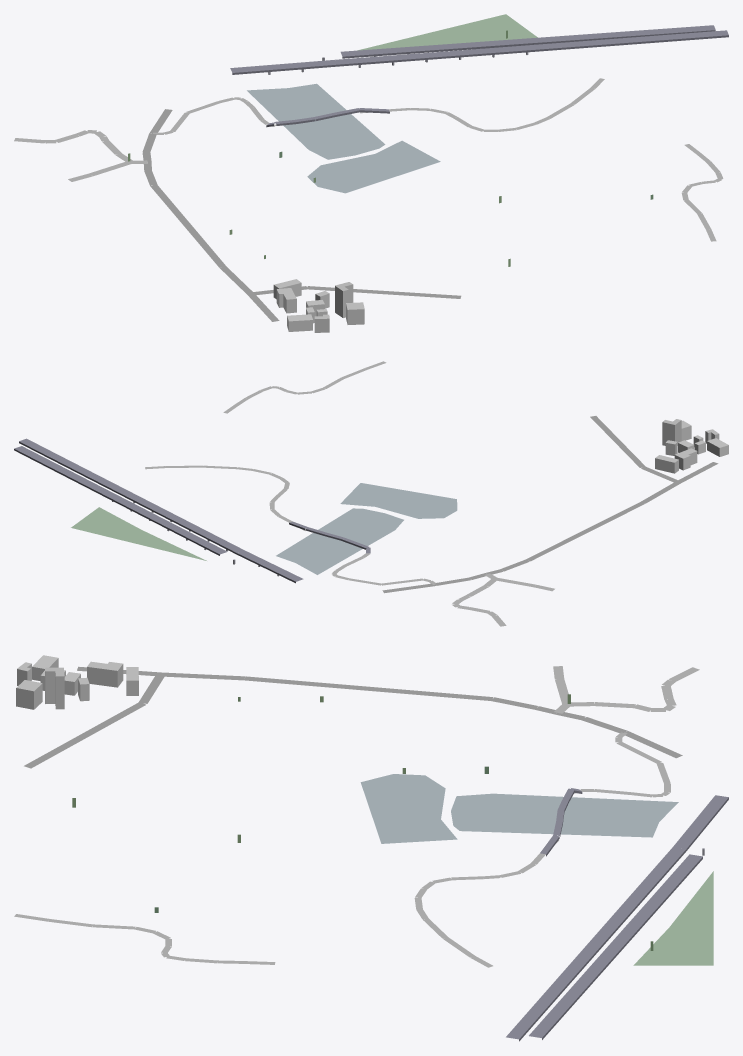
3 views of the same model, one above another, from view 1: azimuth 30°, elevation 25°; view 2: azimuth 150°, elevation 25°; view 3: azimuth 270°, elevation 25° (orthographic). The views are drawn at different scales.
Bounding box in the file's own units: 654 × 31.75 × 520.
